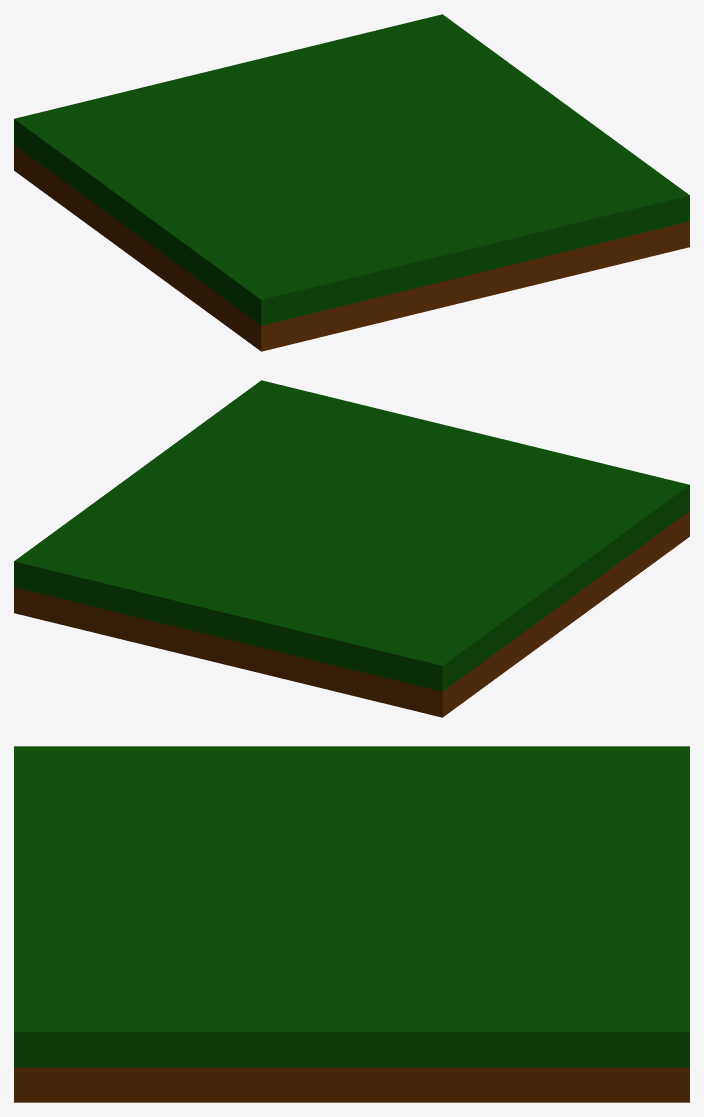
Rendered from PIEZA ESCENARIO 1.fbx.
3 views of the same model, one above another, from view 1: azimuth 30°, elevation 25°; view 2: azimuth 150°, elevation 25°; view 3: azimuth 270°, elevation 25° (orthographic). The views are drawn at different scales.
Visible parts, largest first — view 1: Suelo 1; view 2: Suelo 1; view 3: Suelo 1.
Part boxes in pixels (<box>): Suelo 1: <box>14,14,689,351</box>; Suelo 1: <box>14,380,689,717</box>; Suelo 1: <box>14,746,689,1102</box>.
Bounding box in the file's own units: 1414 × 163 × 1414.
